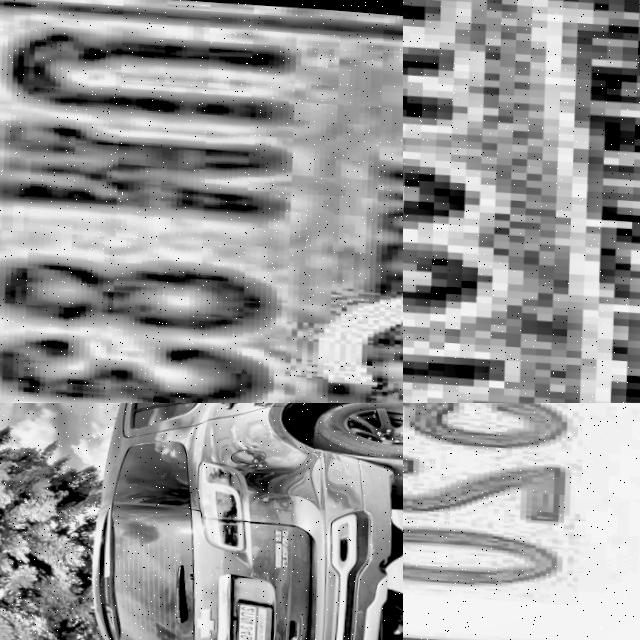license-plate: (0, 0, 403, 403), (403, 0, 640, 403), (403, 403, 640, 640), (234, 590, 277, 640)
